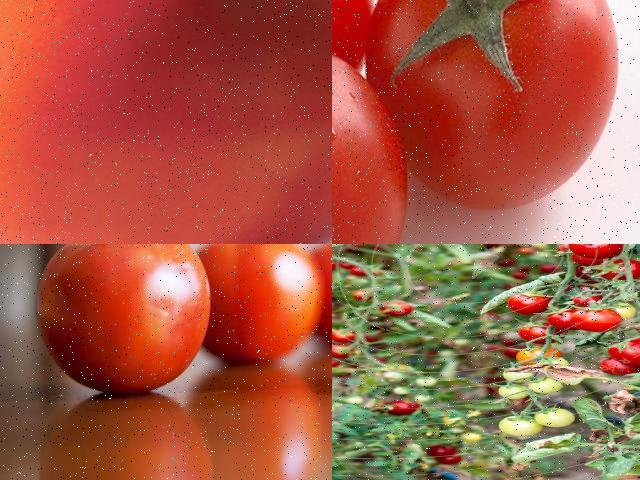tomato: (0, 0, 331, 243), (379, 0, 625, 224), (25, 244, 221, 394), (199, 244, 330, 373), (332, 39, 413, 243), (556, 244, 631, 260), (574, 308, 624, 332), (602, 339, 639, 365), (373, 402, 422, 420), (370, 303, 420, 320)
